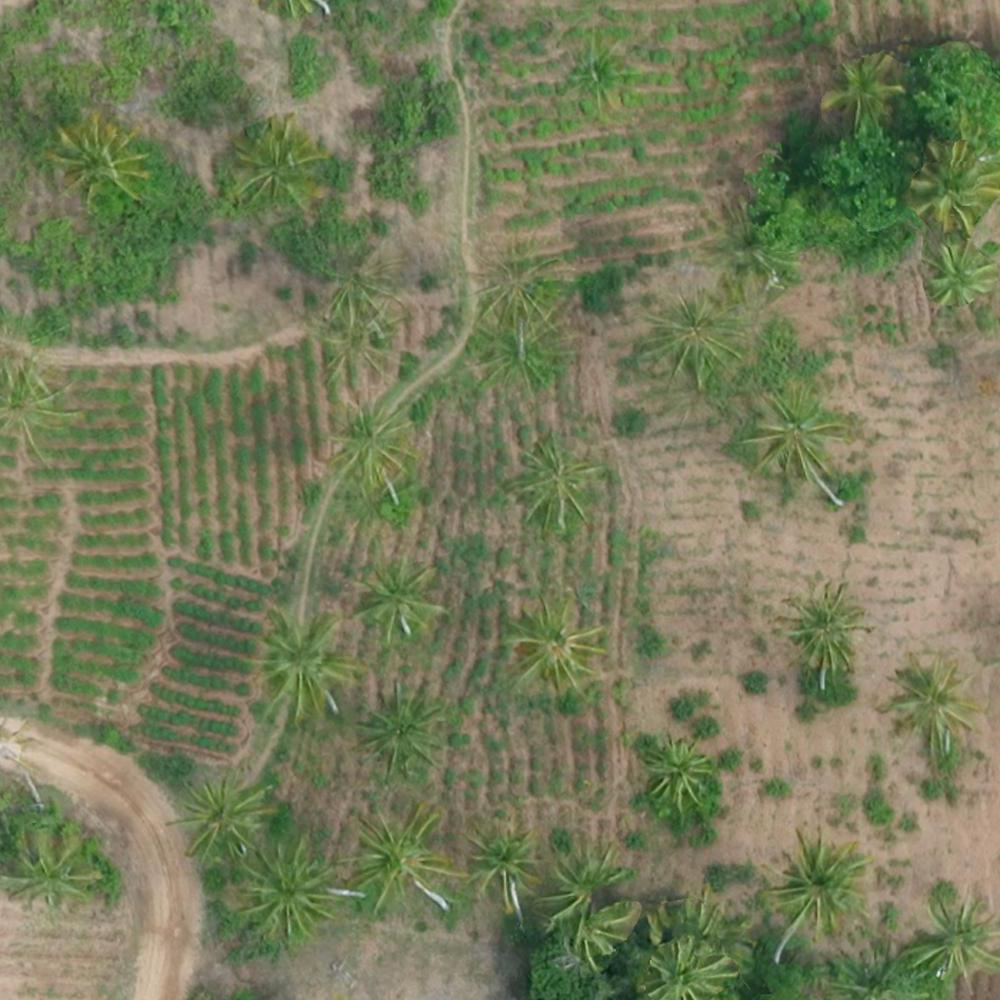Palm: (350, 809, 452, 905), (250, 613, 346, 715), (771, 828, 870, 925), (234, 848, 340, 934), (644, 286, 740, 379), (498, 598, 600, 684), (172, 769, 265, 861), (749, 385, 843, 471), (352, 559, 446, 644), (359, 685, 448, 773), (512, 439, 596, 529), (52, 117, 144, 199), (784, 584, 868, 669), (915, 895, 1000, 978), (911, 143, 995, 226), (895, 655, 978, 739), (234, 123, 316, 206), (5, 832, 93, 905), (640, 930, 731, 997), (465, 825, 537, 895), (643, 734, 716, 802), (825, 51, 898, 117), (920, 240, 995, 304)
